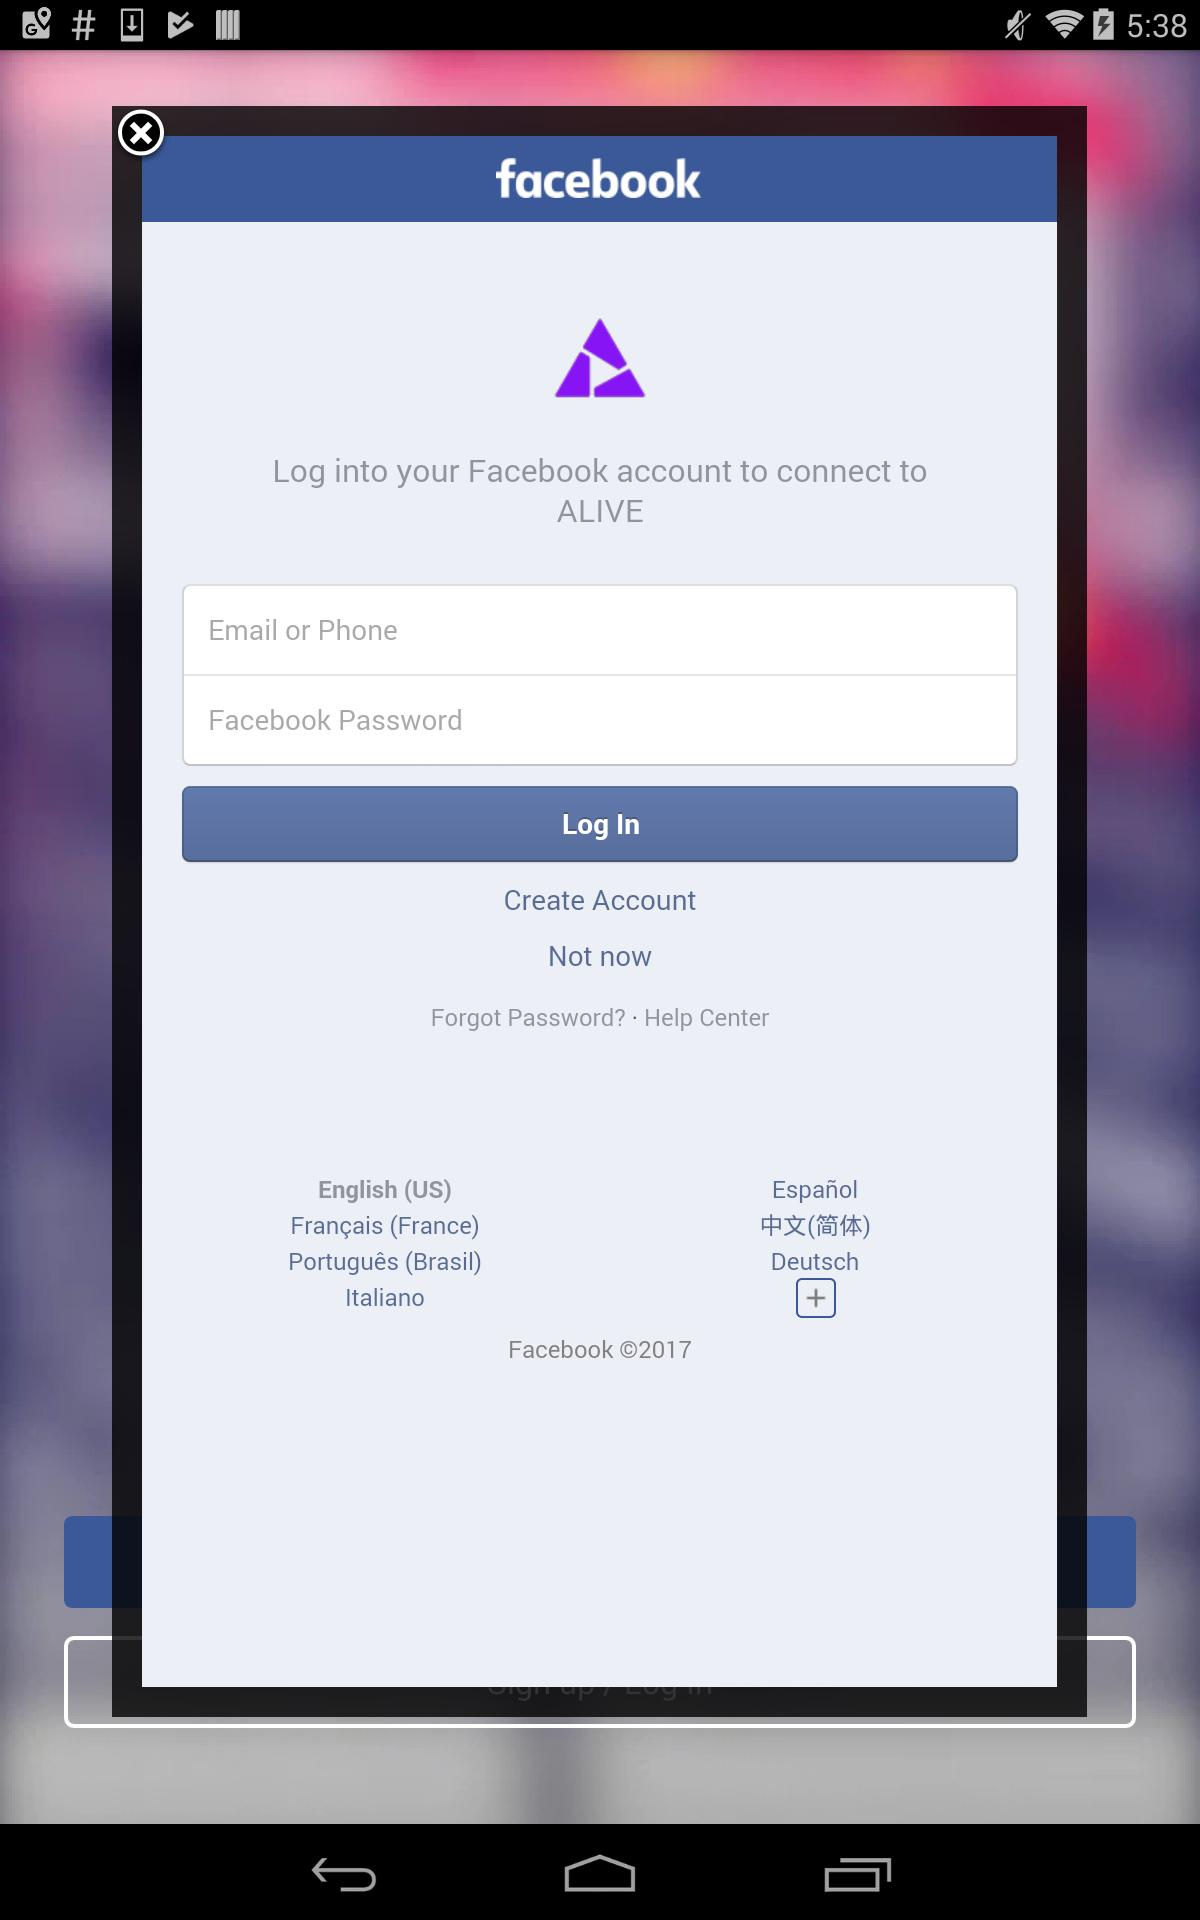android.webkit.WebView: (142, 135, 1058, 1686)
android.widget.FrameLayout: (112, 106, 1087, 1717)
android.widget.ImageView: (112, 106, 170, 164)
android.widget.LinearLayout: (112, 106, 1087, 1717)
